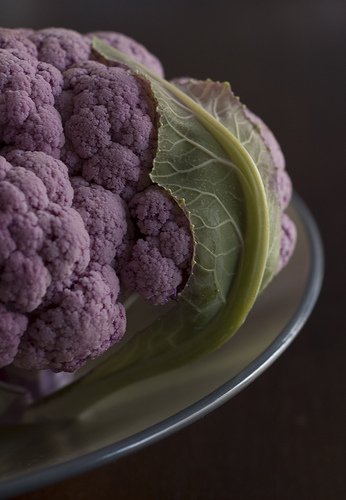cauliflower: (0, 27, 298, 427), (0, 149, 126, 371)
